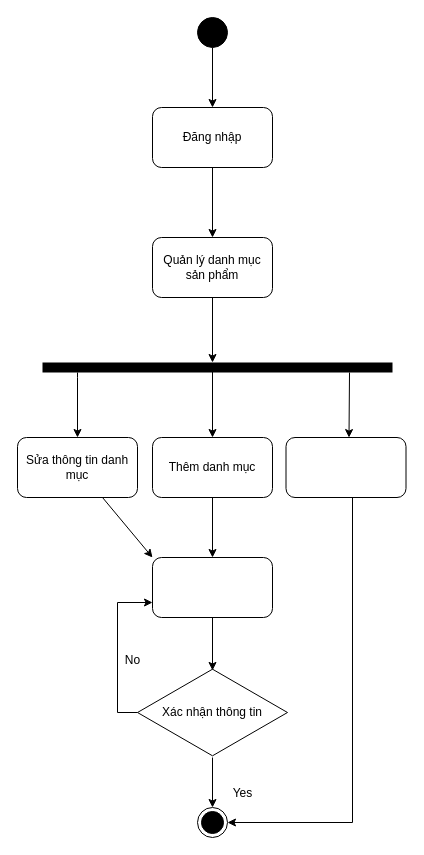
The diagram is 424 pixels wide and 855 high, and some of its shapes have lost their labels. Each missing label, with the centre of its shape:
"Nhập thông tin" belongs at [212,587].
"Xóa danh mục" belongs at [345,467].
